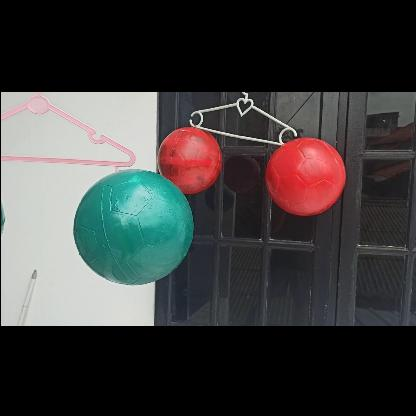red_ball: (265, 134, 344, 214)
